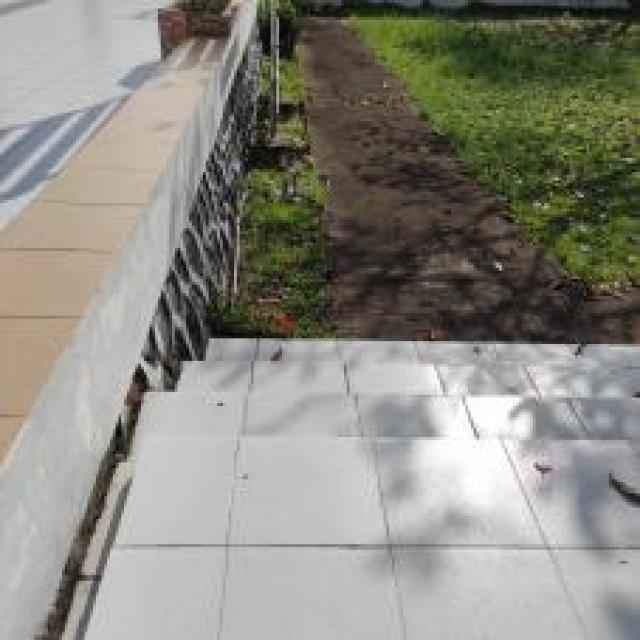downstair: (148, 280, 638, 585)
